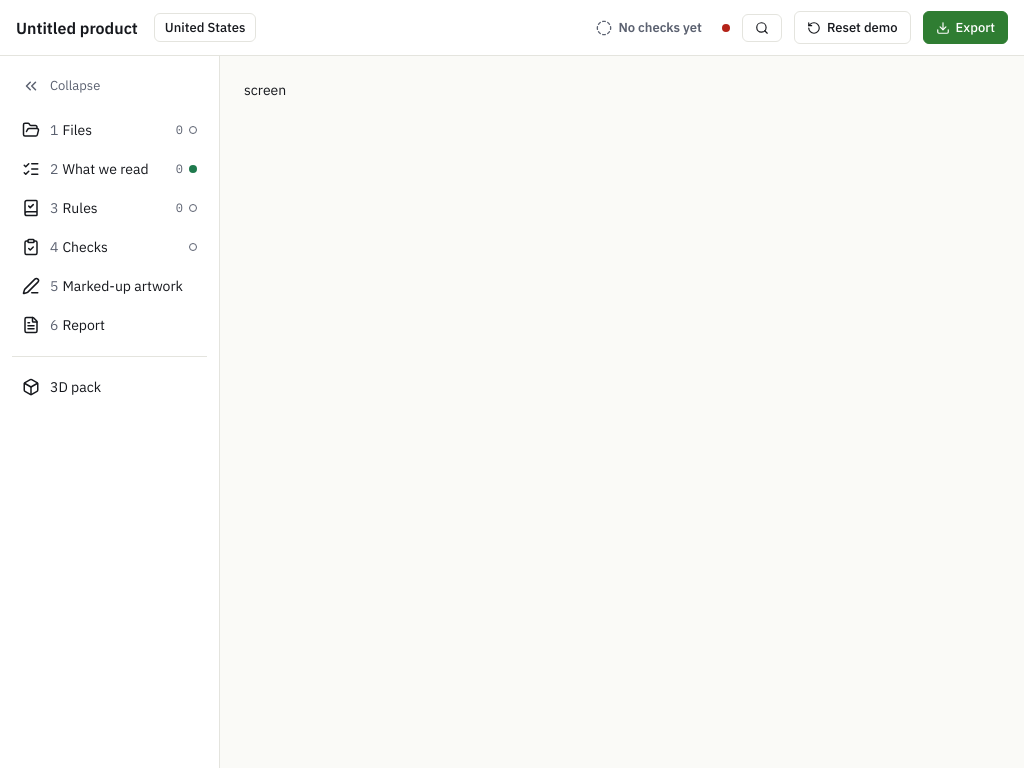
Scenario: Ask about this panel › shows a refusal plainly, with no Confirm button
This screenshot has width=1024, height=768.
Check: the text "screen" is shown, box [244,81,286,99]
Click the button named "Ask about this". click: (762, 28)
box: [742,14,782,42]
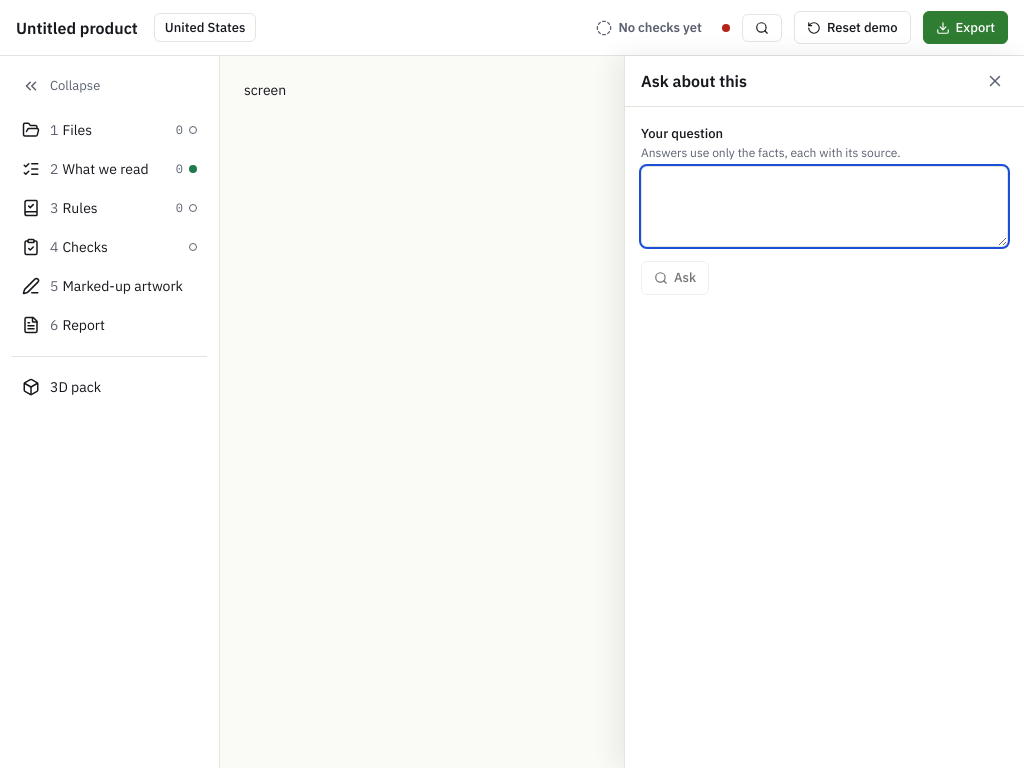
Type "Is it gluten free?" into the text box labelled "Your question". click: (824, 206)
box: [641,166,1008,247]
Then press Enter
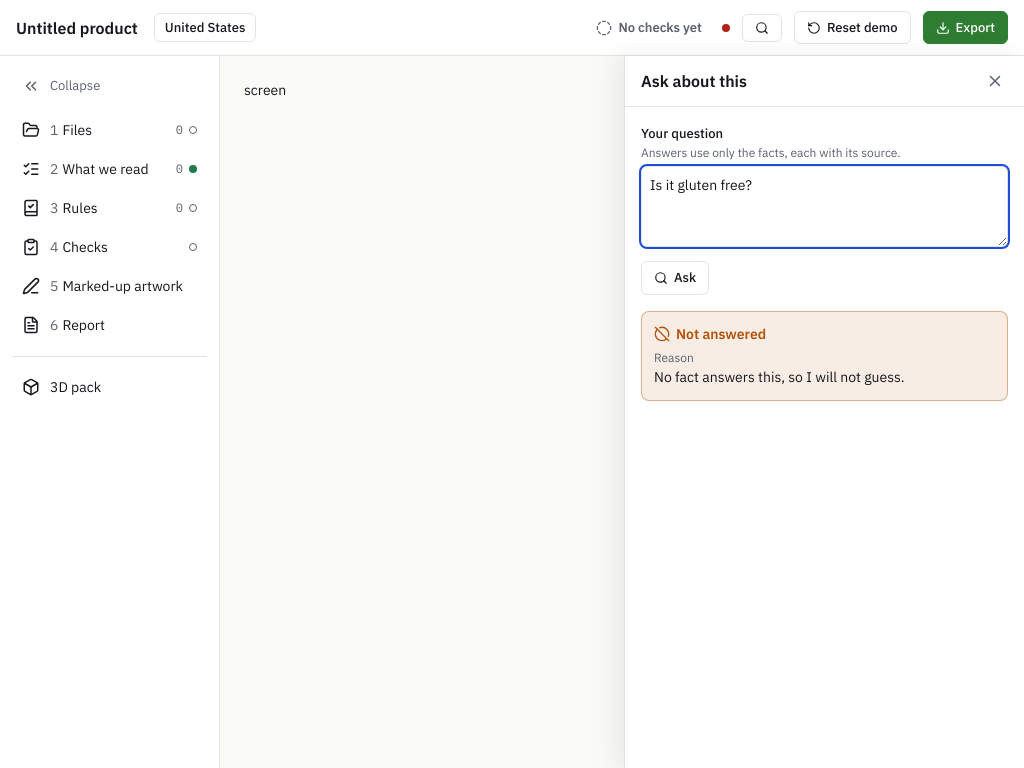
Check: the element "answer" shows "Not answered", box [676,324,766,342]
Check: the element "answer" shows "No fact answers this, so I will not guess.", box [654,368,904,386]
